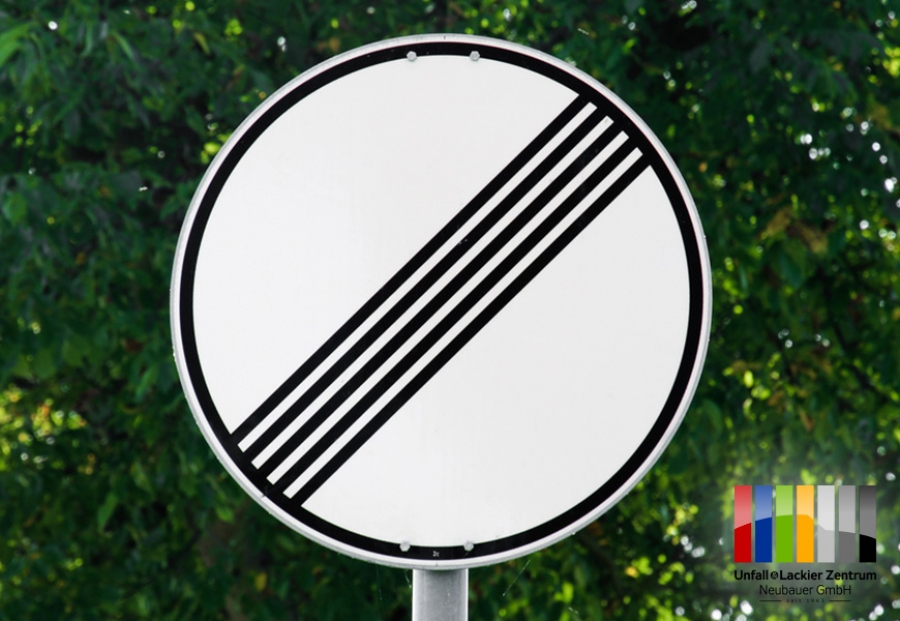aufgehoben: (167, 31, 713, 572)
